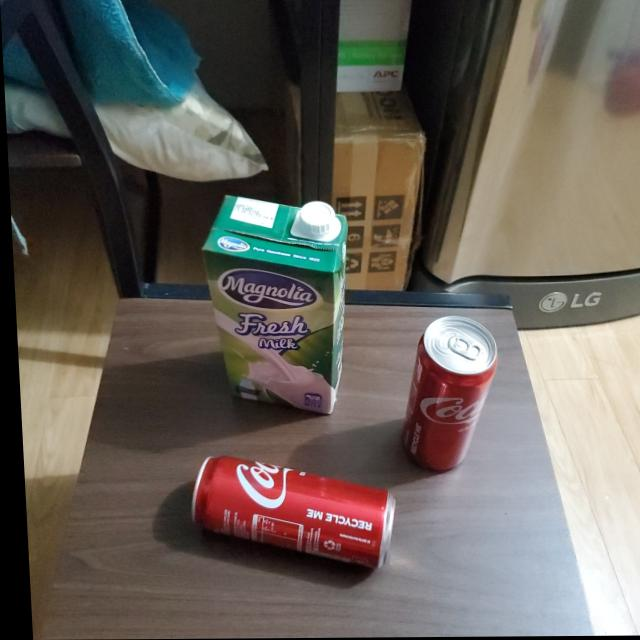coke: (186, 457, 396, 573), (393, 317, 505, 475)
milk: (195, 190, 354, 414)
